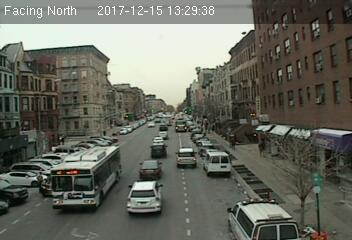bus: (50, 145, 122, 210)
car: (124, 182, 164, 216), (175, 148, 197, 169), (138, 159, 162, 178), (150, 143, 167, 156)
police: (224, 196, 298, 240)
truck: (203, 152, 232, 176)
